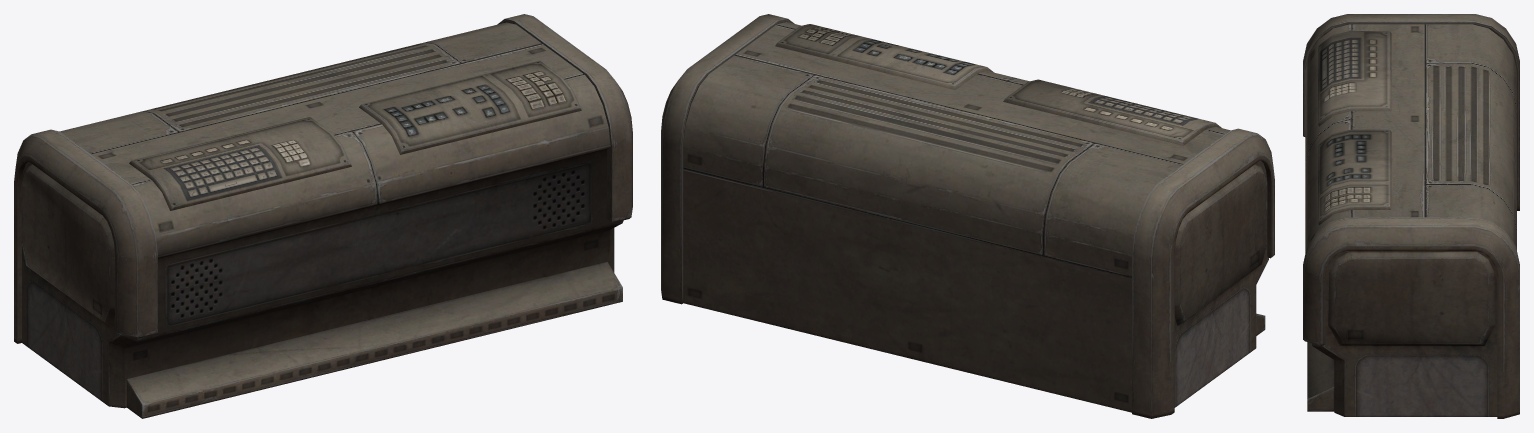
File: computer_pplant_default.dae
3 views of the same model, side by side, from view 1: azimuth 30°, elevation 25°; view 2: azimuth 150°, elevation 25°; view 3: azimuth 270°, elevation 25° (orthographic). The views are drawn at different scales.
Visible parts, largest first — view 1: computer_pplant_default; view 2: computer_pplant_default; view 3: computer_pplant_default.
Part boxes in pixels (x1=…): computer_pplant_default: x1=14, y1=14, x2=632, y2=418; computer_pplant_default: x1=661, y1=14, x2=1274, y2=418; computer_pplant_default: x1=1303, y1=14, x2=1519, y2=418.
Bounding box in the file's own units: 2.52 × 1.01 × 1.04.
